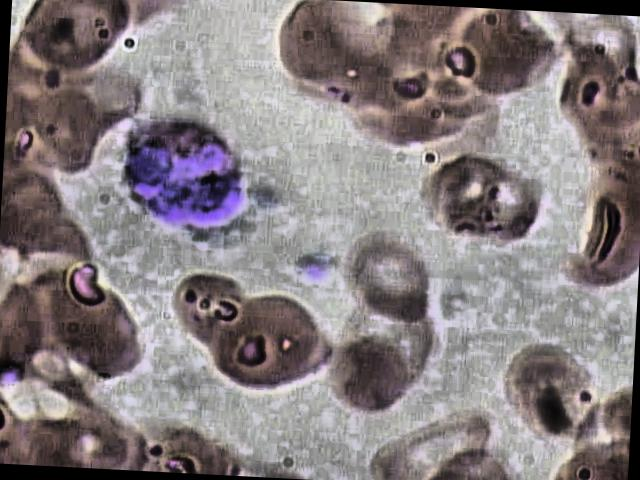Platelets: (292, 245, 338, 287), (242, 178, 288, 220)
RBC: (32, 258, 152, 387), (24, 64, 144, 192), (206, 292, 330, 400), (484, 339, 604, 444), (264, 0, 384, 95), (362, 402, 499, 480), (14, 0, 134, 82), (568, 160, 640, 295), (322, 330, 418, 430), (342, 229, 438, 329), (415, 149, 511, 249), (456, 7, 559, 100), (554, 50, 640, 157), (169, 271, 253, 356), (480, 168, 550, 255)
WBC: (113, 103, 248, 244)
